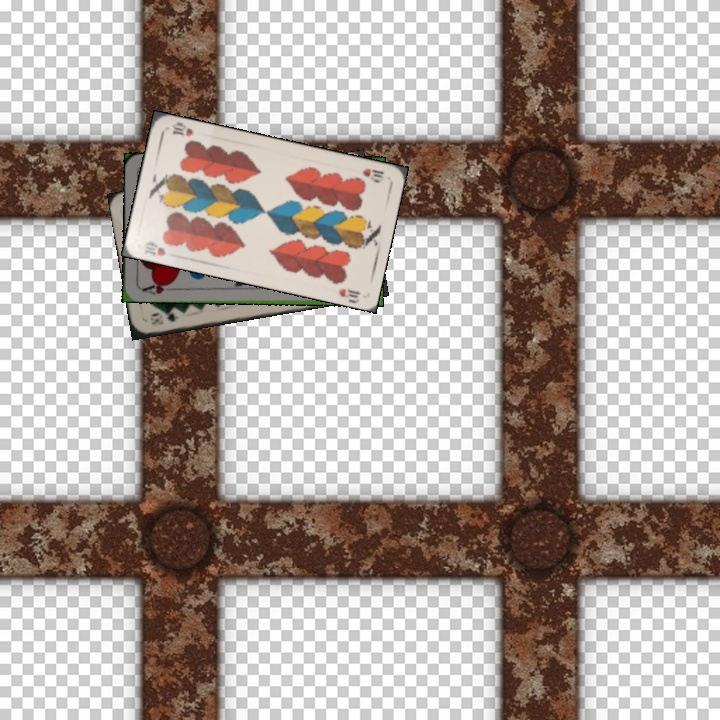G10: (147, 309, 181, 328)
H10: (140, 237, 168, 259), (358, 164, 387, 185)
HA: (138, 278, 178, 297)
